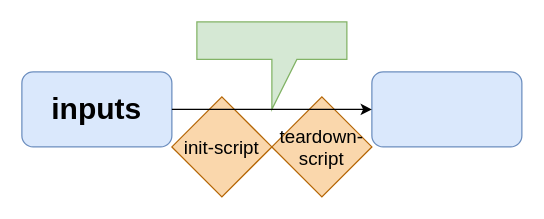
Image size: 544x219. Some labels were removed from this diagram. Here are the shapes that lost their labels. From the top down, the centre of each, then its label:
At (x=271, y=65): "client setup".
At (x=446, y=109): "deletes".
